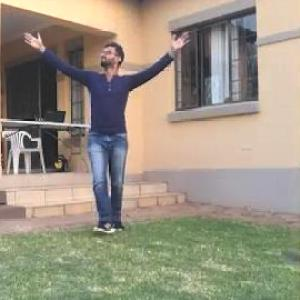takeoff: (39, 40, 194, 238)
